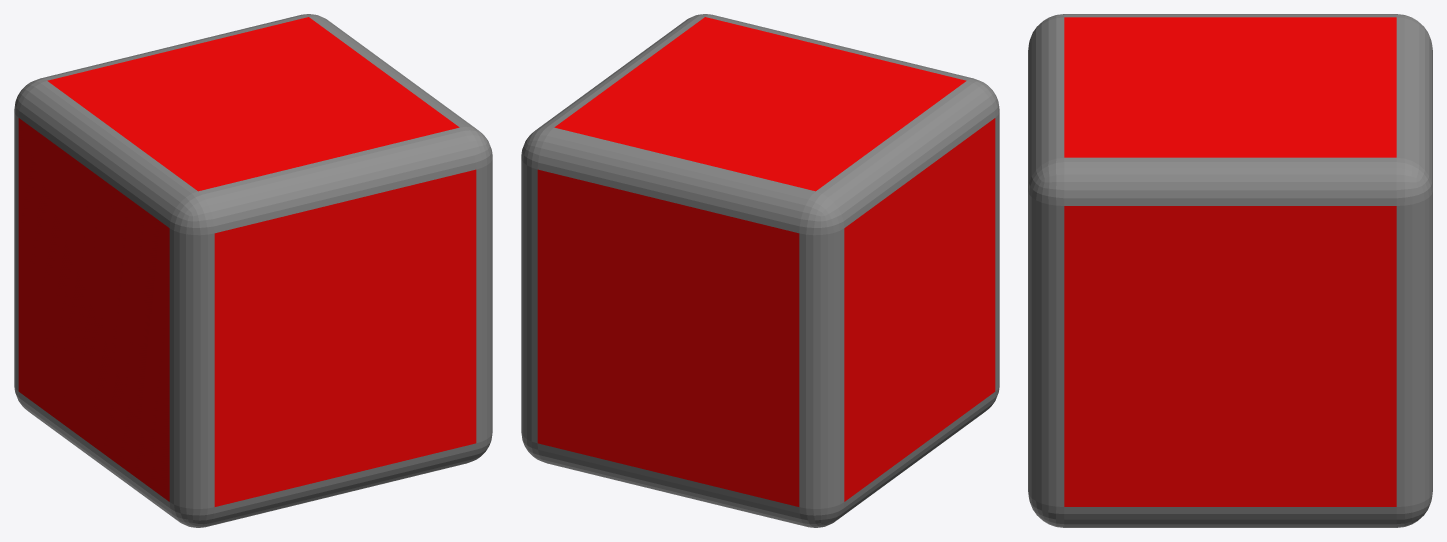
File: Box 2 Short.fbx
3 views of the same model, side by side, from view 1: azimuth 30°, elevation 25°; view 2: azimuth 150°, elevation 25°; view 3: azimuth 270°, elevation 25° (orthographic). The views are drawn at different scales.
Parts seen in each view (by area): view 1: Cube.001; view 2: Cube.001; view 3: Cube.001.
Part boxes in pixels (box(x1,y1,x2,y2)): Cube.001: box(14, 14, 492, 527); Cube.001: box(521, 14, 999, 527); Cube.001: box(1028, 14, 1432, 527).
Bounding box in the file's own units: 200 × 200 × 200.
